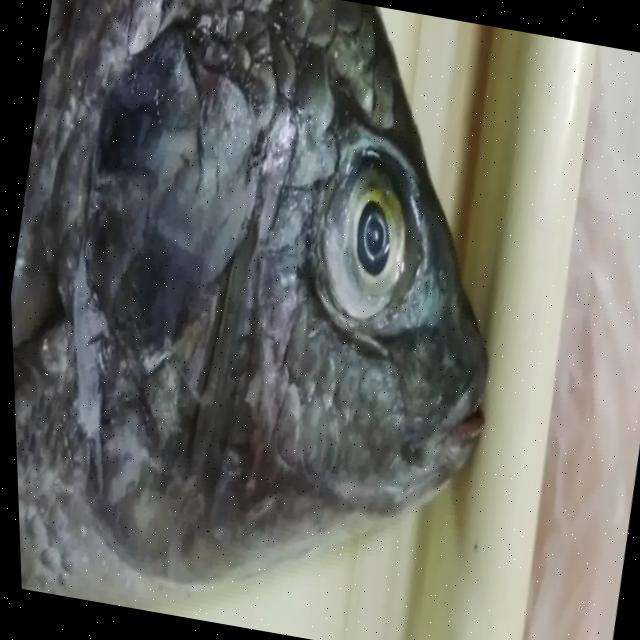Non-Fresh: (257, 92, 461, 375)
